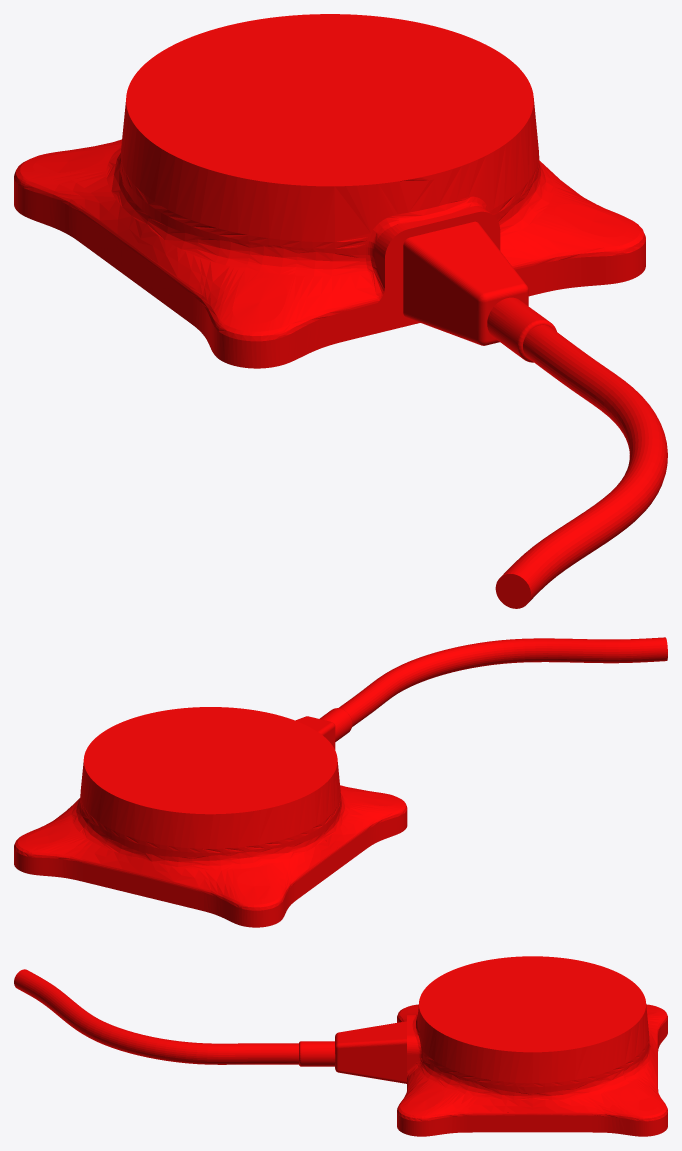
3 views of the same model, one above another, from view 1: azimuth 30°, elevation 25°; view 2: azimuth 150°, elevation 25°; view 3: azimuth 270°, elevation 25° (orthographic). The views are drawn at different scales.
Parts seen in each view (by area): view 1: MF1013_0_0; view 2: MF1013_0_0; view 3: MF1013_0_0.
Part boxes in pixels (bbox=[...]): MF1013_0_0: bbox=[14, 14, 667, 608]; MF1013_0_0: bbox=[14, 637, 667, 927]; MF1013_0_0: bbox=[14, 956, 667, 1136].
Bounding box in the file's own units: 214 × 440 × 55.8.
